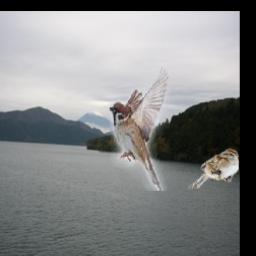Sparrow: (111, 66, 171, 192), (188, 149, 239, 189)
